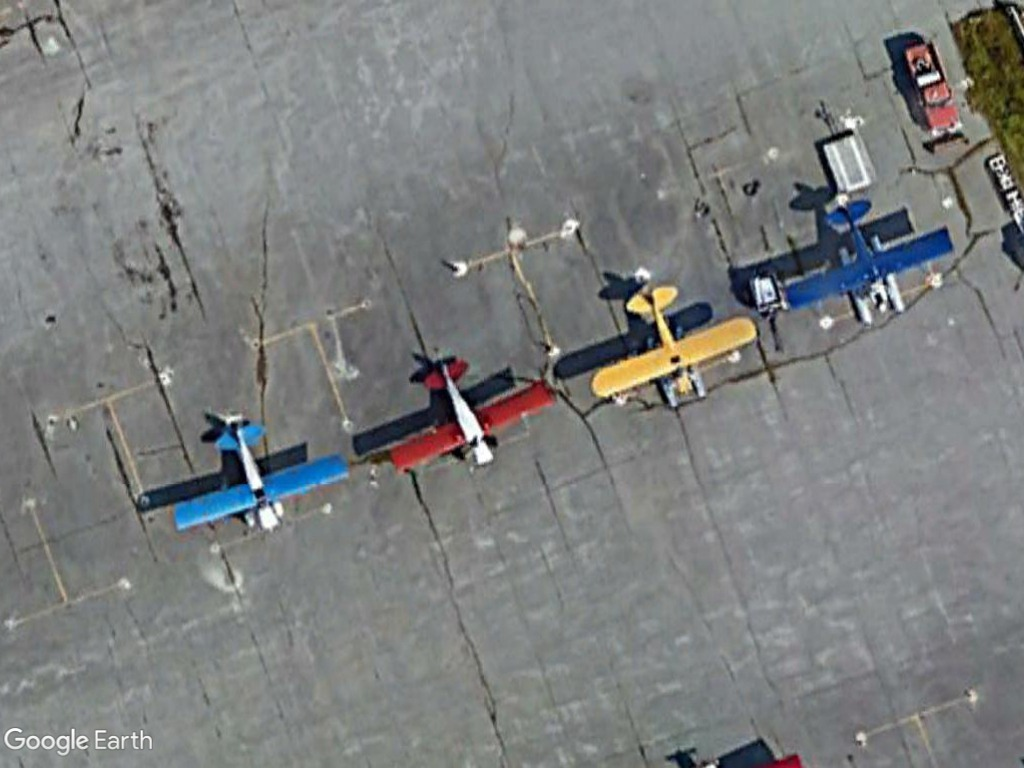trainer: (159, 410, 357, 538), (577, 280, 759, 410), (778, 193, 961, 313), (382, 354, 551, 479)
